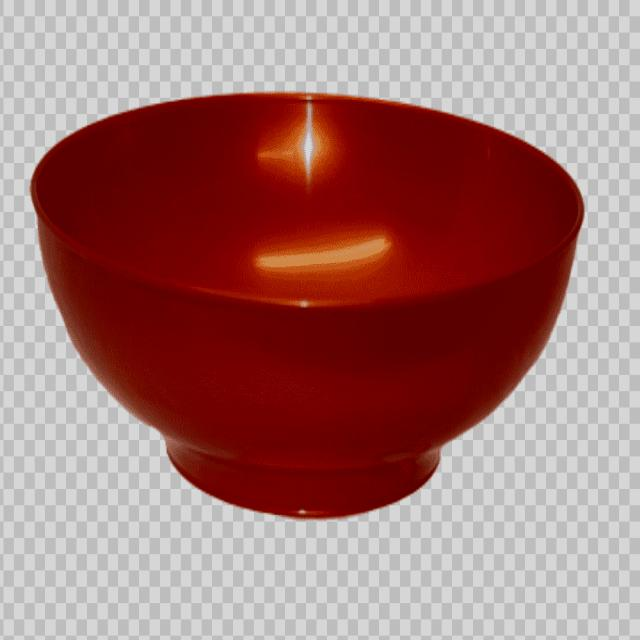Mangkok: (19, 72, 588, 536)
